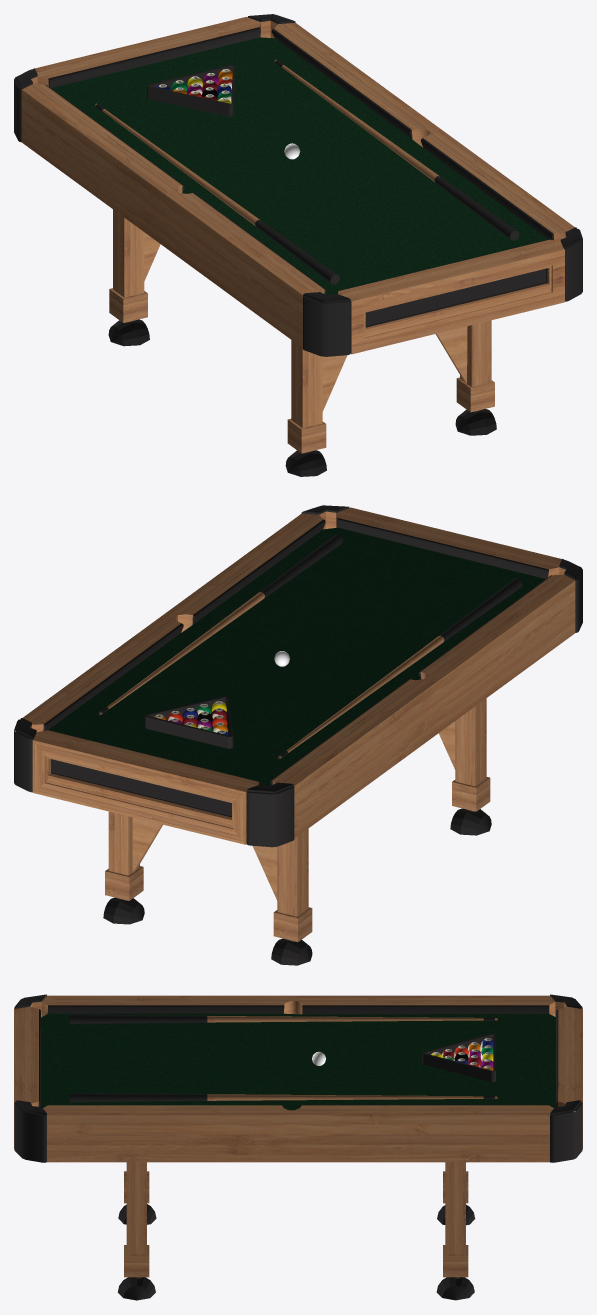
The model's file is pool_table.glb.
3 views of the same model, one above another, from view 1: azimuth 30°, elevation 25°; view 2: azimuth 150°, elevation 25°; view 3: azimuth 270°, elevation 25° (orthographic). The views are drawn at different scales.
Visible parts, largest first — view 1: Object_2; view 2: Object_2; view 3: Object_2.
Boxes of the visible parts, left/top/right/bottom form: Object_2: left=14, top=14, right=582, bottom=476; Object_2: left=14, top=505, right=582, bottom=965; Object_2: left=14, top=994, right=582, bottom=1300.
Size of the model in its own units: 113 by 89.22 by 225.
1 material, 1 textured.
